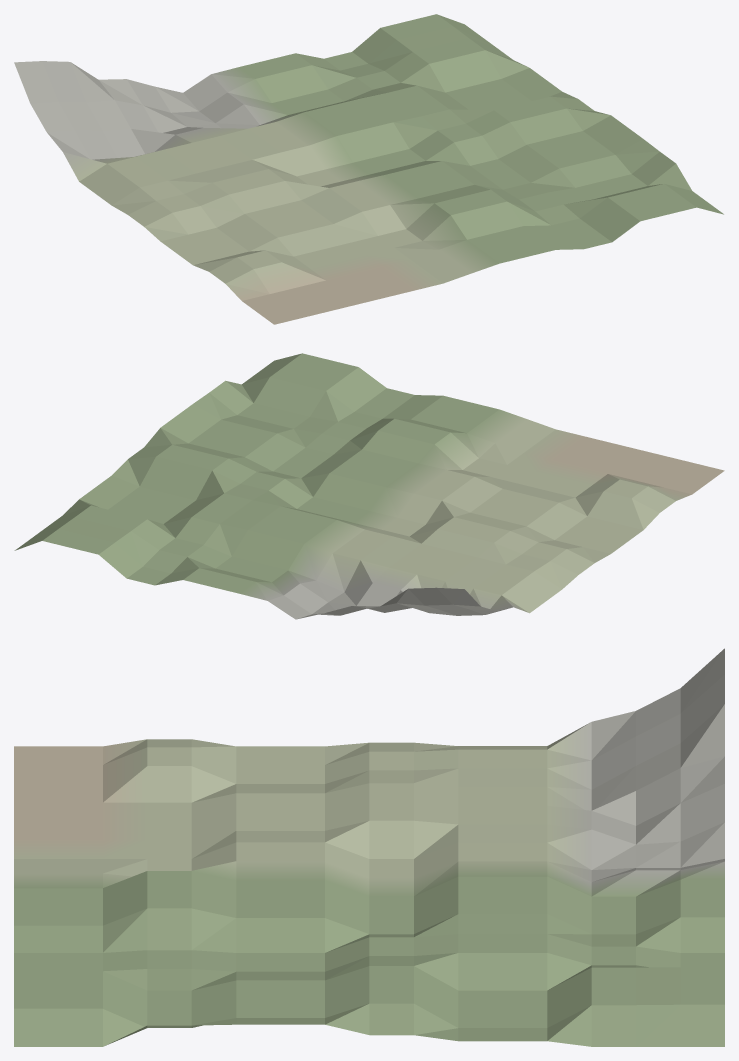
3 views of the same model, one above another, from view 1: azimuth 30°, elevation 25°; view 2: azimuth 150°, elevation 25°; view 3: azimuth 270°, elevation 25° (orthographic). The views are drawn at different scales.
Size of the model in its own units: 32 by 5.45 by 32.
